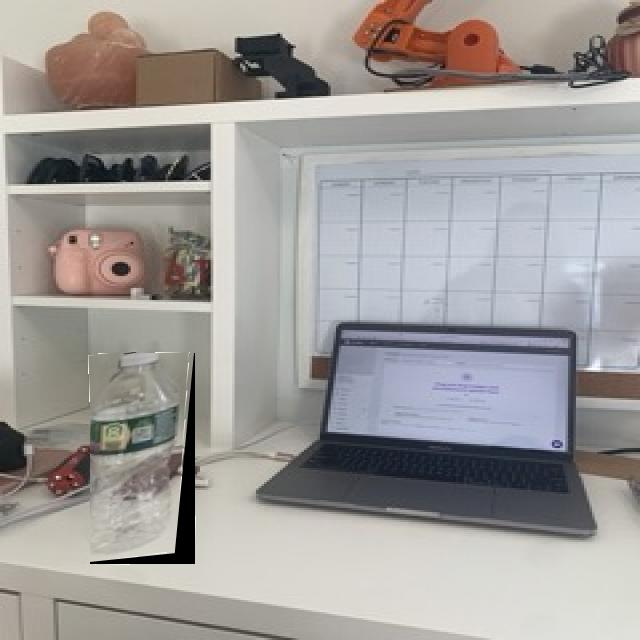water_bottle: (90, 353, 195, 564)
